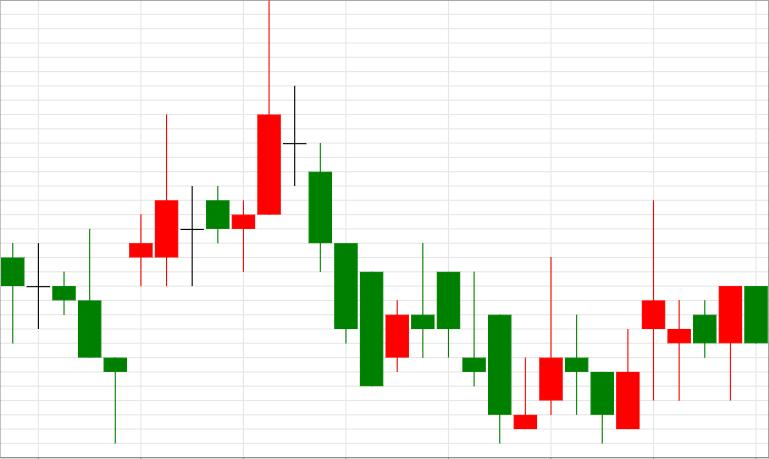morning_star_rise: (412, 241, 562, 445)
